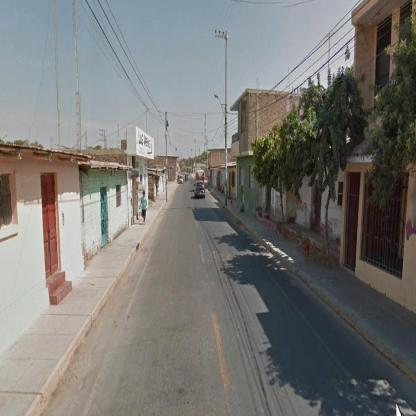Peaton: (140, 192, 148, 226)
Pista: (57, 175, 410, 391)
Vehiculo: (195, 181, 206, 200), (179, 175, 184, 184)
